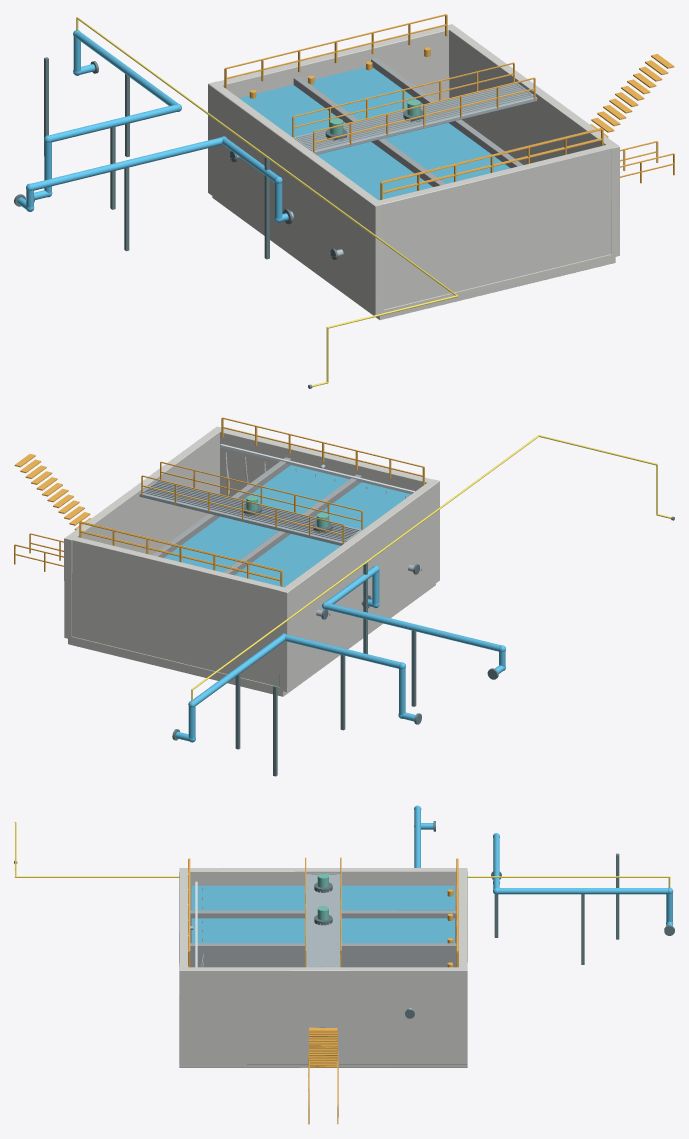
3 views of the same model, one above another, from view 1: azimuth 30°, elevation 25°; view 2: azimuth 150°, elevation 25°; view 3: azimuth 270°, elevation 25° (orthographic). The views are drawn at different scales.
Parts seen in each view (by area): view 1: render-batch-7, render-batch-2, render-batch-9, render-batch-0, render-batch-6, render-batch-5, render-batch-3, render-batch-10; view 2: render-batch-7, render-batch-2, render-batch-9, render-batch-0, render-batch-6, render-batch-5, render-batch-3, render-batch-10, render-batch-8; view 3: render-batch-7, render-batch-2, render-batch-5, render-batch-6, render-batch-9, render-batch-0, render-batch-3, render-batch-10.
Boxes of the visible parts, <box> form: render-batch-7: <box>208,24,619,319</box>; render-batch-2: <box>239,67,510,200</box>; render-batch-9: <box>224,14,674,199</box>; render-batch-0: <box>17,30,288,222</box>; render-batch-6: <box>237,83,537,256</box>; render-batch-5: <box>293,57,522,186</box>; render-batch-3: <box>14,57,312,388</box>; render-batch-10: <box>76,17,458,386</box>; render-batch-7: <box>64,426,439,696</box>; render-batch-2: <box>164,465,410,587</box>; render-batch-9: <box>14,417,424,586</box>; render-batch-0: <box>175,565,505,742</box>; render-batch-6: <box>139,464,414,616</box>; render-batch-5: <box>152,457,361,575</box>; render-batch-3: <box>172,516,674,776</box>; render-batch-10: <box>191,435,671,701</box>; render-batch-8: <box>220,444,414,498</box>; render-batch-7: <box>179,868,467,1067</box>; render-batch-2: <box>191,885,454,943</box>; render-batch-5: <box>190,910,456,967</box>; render-batch-6: <box>190,873,412,1009</box>; render-batch-9: <box>188,857,458,1124</box>; render-batch-0: <box>414,805,673,925</box>; render-batch-3: <box>14,821,674,964</box>; render-batch-10: <box>14,821,670,888</box>.
Bounding box in the file's own units: 30.32 × 6.75 × 34.37.
